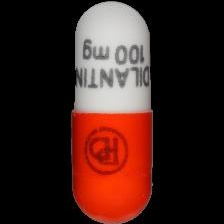49999-876: (0, 0, 224, 224)
